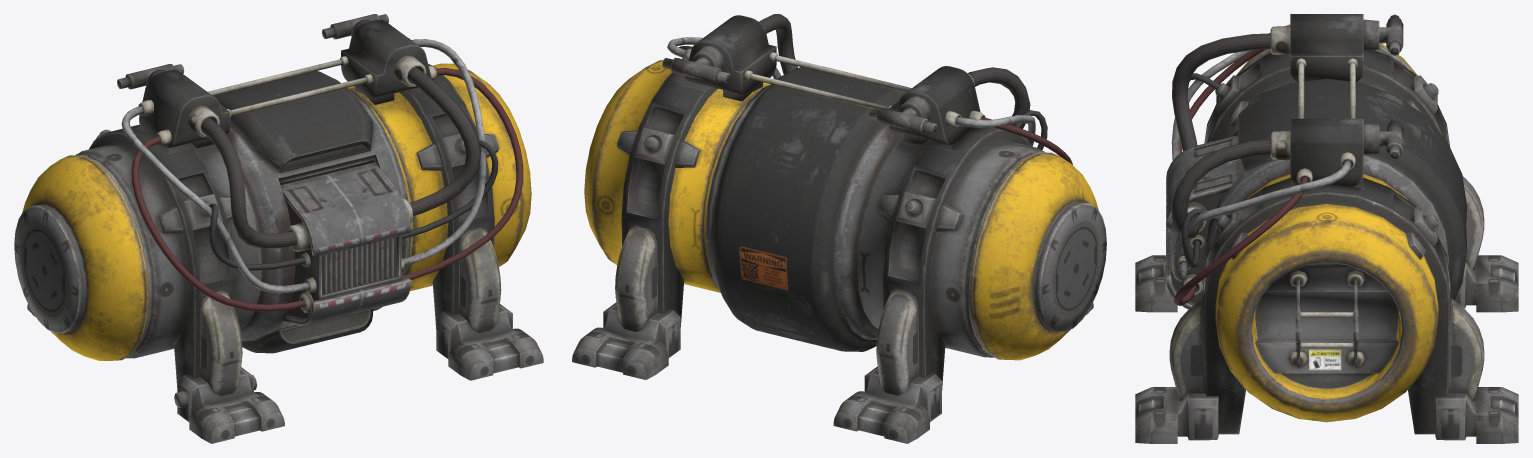
File: scifi-storage-tank.glb
3 views of the same model, side by side, from view 1: azimuth 30°, elevation 25°; view 2: azimuth 150°, elevation 25°; view 3: azimuth 270°, elevation 25° (orthographic). The views are drawn at different scales.
Visible parts, largest first — view 1: TankDoodadCylinder.019_low.001; view 2: TankDoodadCylinder.019_low.001; view 3: TankDoodadCylinder.019_low.001.
Part boxes in pixels (left/top/right/bottom): TankDoodadCylinder.019_low.001: left=14, top=14, right=543, bottom=443; TankDoodadCylinder.019_low.001: left=572, top=14, right=1106, bottom=443; TankDoodadCylinder.019_low.001: left=1135, top=14, right=1518, bottom=443.
Bounding box in the file's own units: 2 × 1.14 × 1.37.
1 material, 1 textured.
